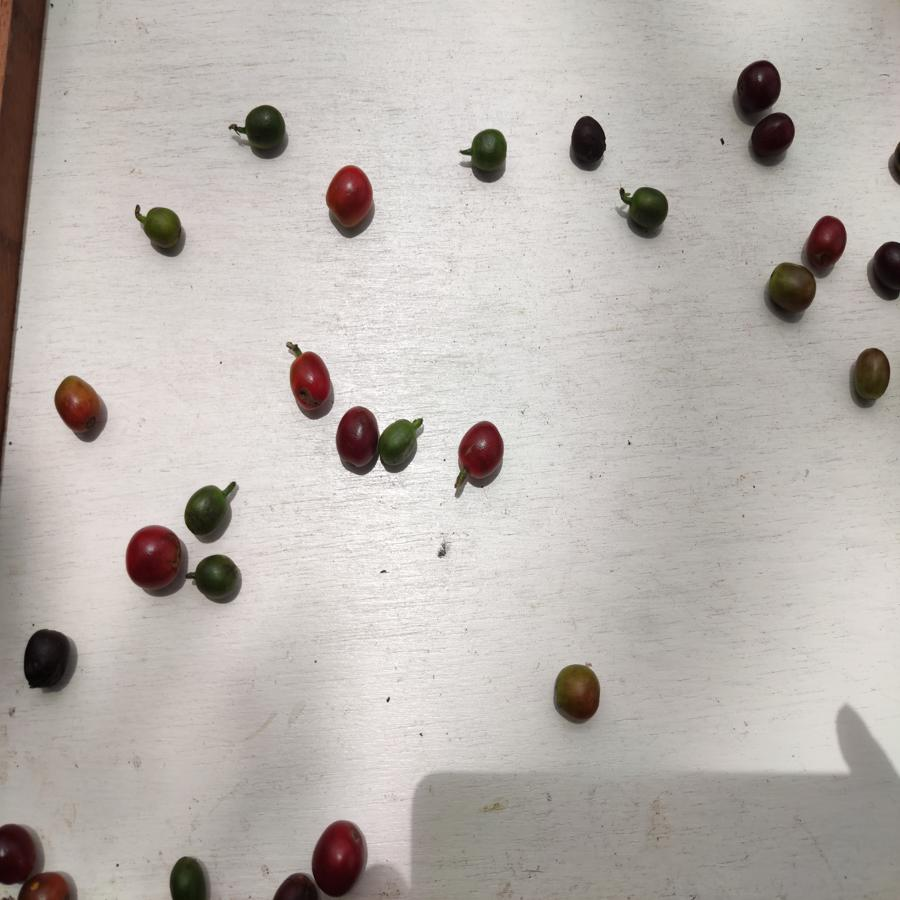Inmaduro: (183, 483, 233, 537), (193, 552, 243, 601), (239, 102, 287, 152), (623, 186, 671, 234), (161, 855, 215, 897), (140, 206, 187, 253), (469, 127, 510, 180), (381, 415, 419, 470)
Maduro: (122, 522, 182, 593), (456, 419, 514, 485), (325, 166, 378, 232), (286, 353, 334, 407), (808, 215, 849, 273)
Pinton: (553, 662, 610, 724), (52, 379, 106, 433), (764, 263, 817, 316), (851, 349, 892, 404)
Sobremaduro: (311, 819, 367, 896), (20, 628, 73, 693), (335, 403, 378, 471), (748, 110, 799, 163), (736, 56, 783, 109), (567, 114, 612, 167), (1, 823, 42, 880), (875, 240, 900, 298)
